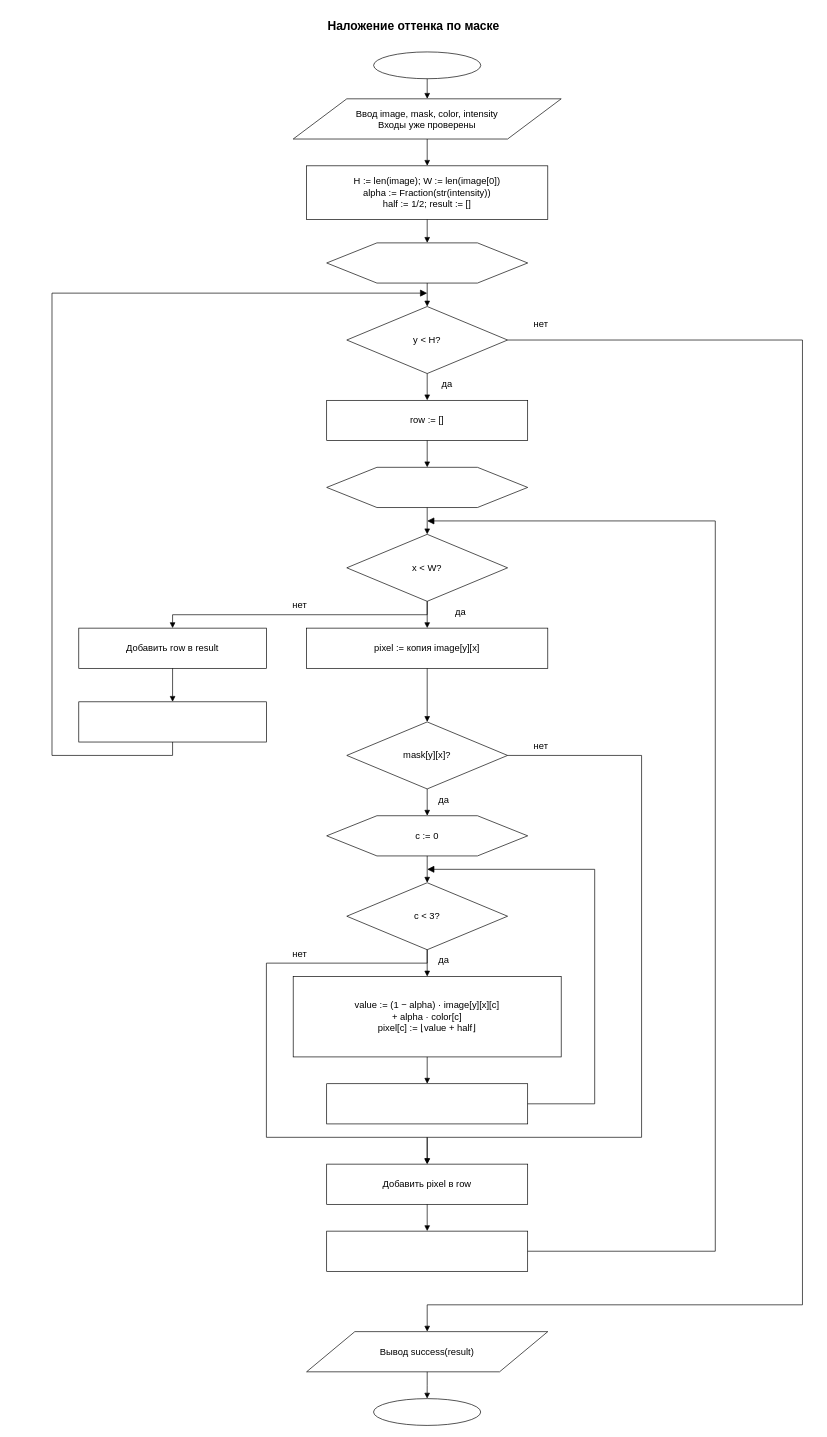
Some shapes in this 827 by 1437 pixel diagram are drawn without their labels. Each missing label, with the centre of its shape:
c := c + 1: (x=427, y=1103)
x := 0: (x=427, y=487)
x := x + 1: (x=427, y=1250)
y := 0: (x=427, y=262)
y := y + 1: (x=172, y=721)
Конец: (x=427, y=1411)
Начало: (x=427, y=65)
